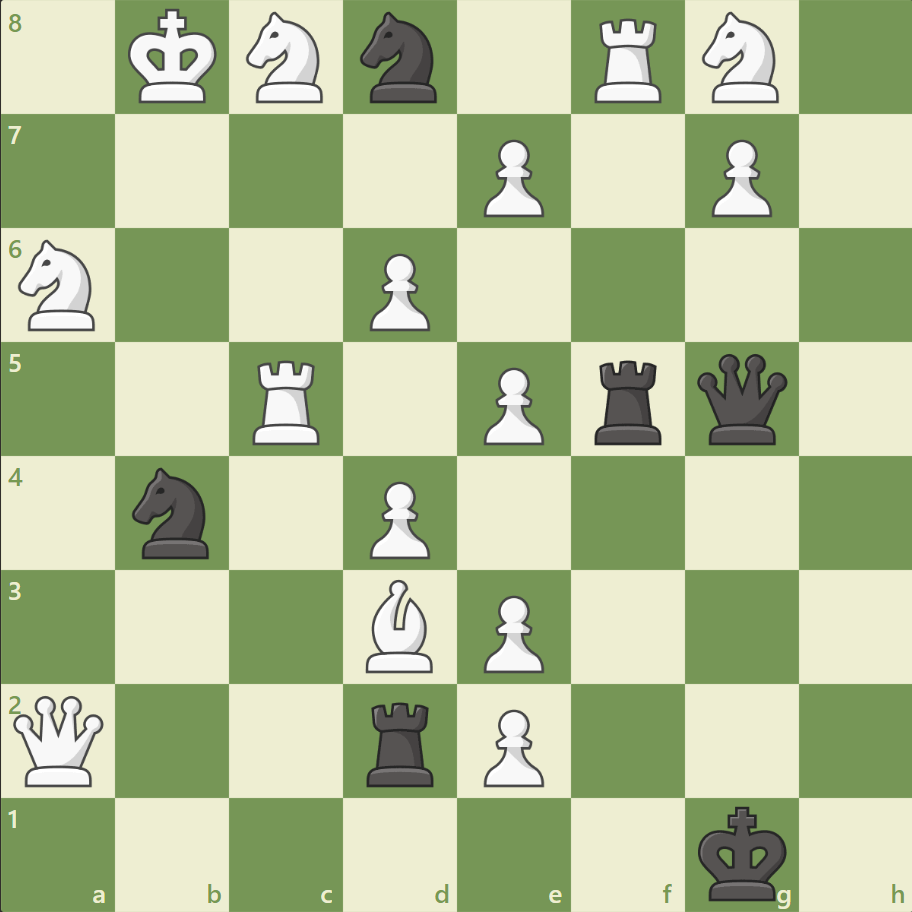B: (358, 574, 442, 676)
K: (124, 4, 224, 112)
N: (238, 7, 335, 110), (692, 7, 789, 110), (11, 234, 108, 337)
P: (474, 132, 549, 223), (701, 132, 776, 223), (474, 359, 549, 450), (474, 586, 549, 677), (474, 700, 549, 791), (361, 246, 435, 337), (361, 473, 435, 564)
Q: (10, 690, 109, 789)
R: (587, 12, 670, 109), (246, 352, 329, 449)
k: (692, 798, 792, 906)
n: (351, 7, 449, 110), (124, 461, 222, 564)
q: (691, 349, 790, 449)
r: (587, 352, 670, 449), (360, 693, 442, 790)
